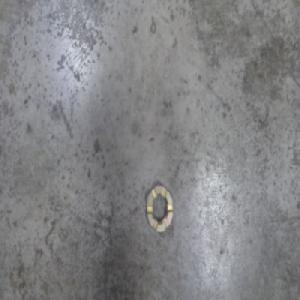Nut: (146, 179, 174, 233)
